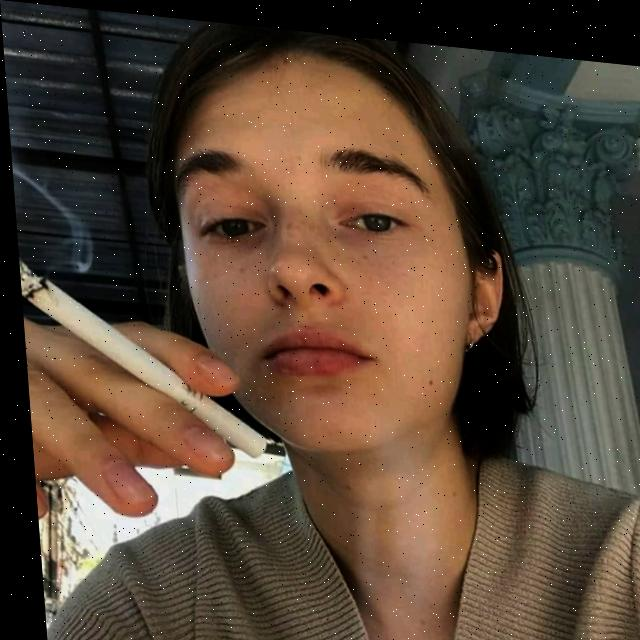cigarette: (16, 260, 263, 456)
